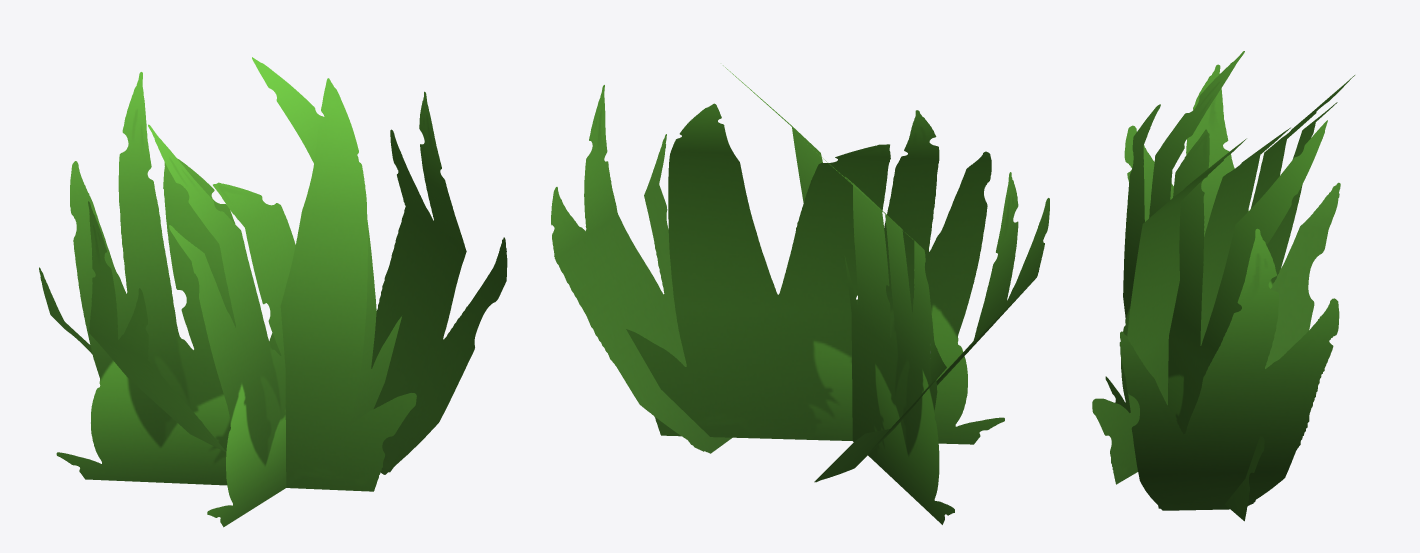
Rendered from Grass 1.fbx.
3 views of the same model, side by side, from view 1: azimuth 30°, elevation 25°; view 2: azimuth 150°, elevation 25°; view 3: azimuth 270°, elevation 25° (orthographic). The views are drawn at different scales.
Parts seen in each view (by area): view 1: pPlane20; view 2: pPlane20; view 3: pPlane20.
Part boxes in pixels (x1,y1,x2,y2): pPlane20: [39, 57, 507, 527]; pPlane20: [551, 65, 1049, 524]; pPlane20: [1092, 51, 1354, 521].
Bounding box in the file's own units: 124 × 119 × 93.05.
